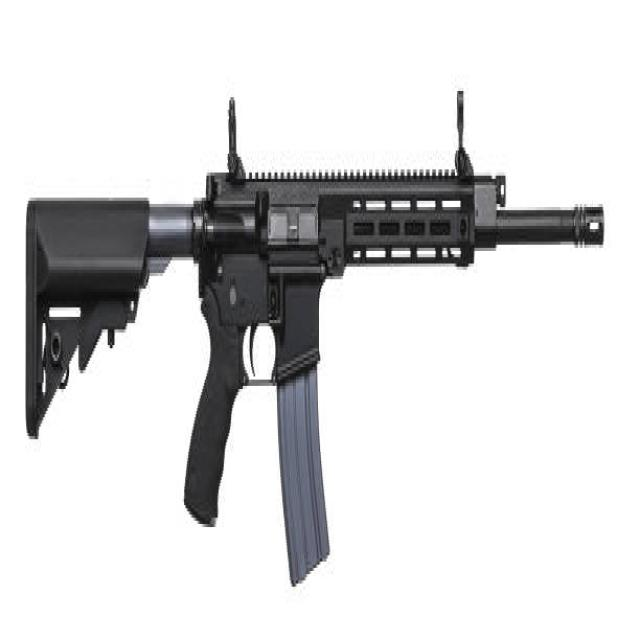rifle: (22, 61, 612, 617)
